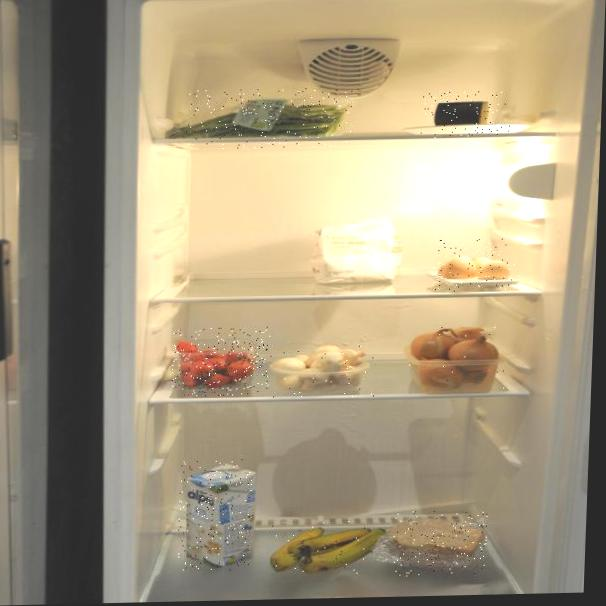banana: (262, 520, 382, 577)
bread: (391, 510, 488, 577)
cheese: (421, 91, 511, 139)
eggs: (435, 238, 517, 293)
milk: (177, 459, 255, 572)
mushroom: (269, 340, 377, 399)
onion: (407, 321, 508, 391)
spinach: (185, 87, 352, 150)
tomatoes: (171, 327, 271, 397)
